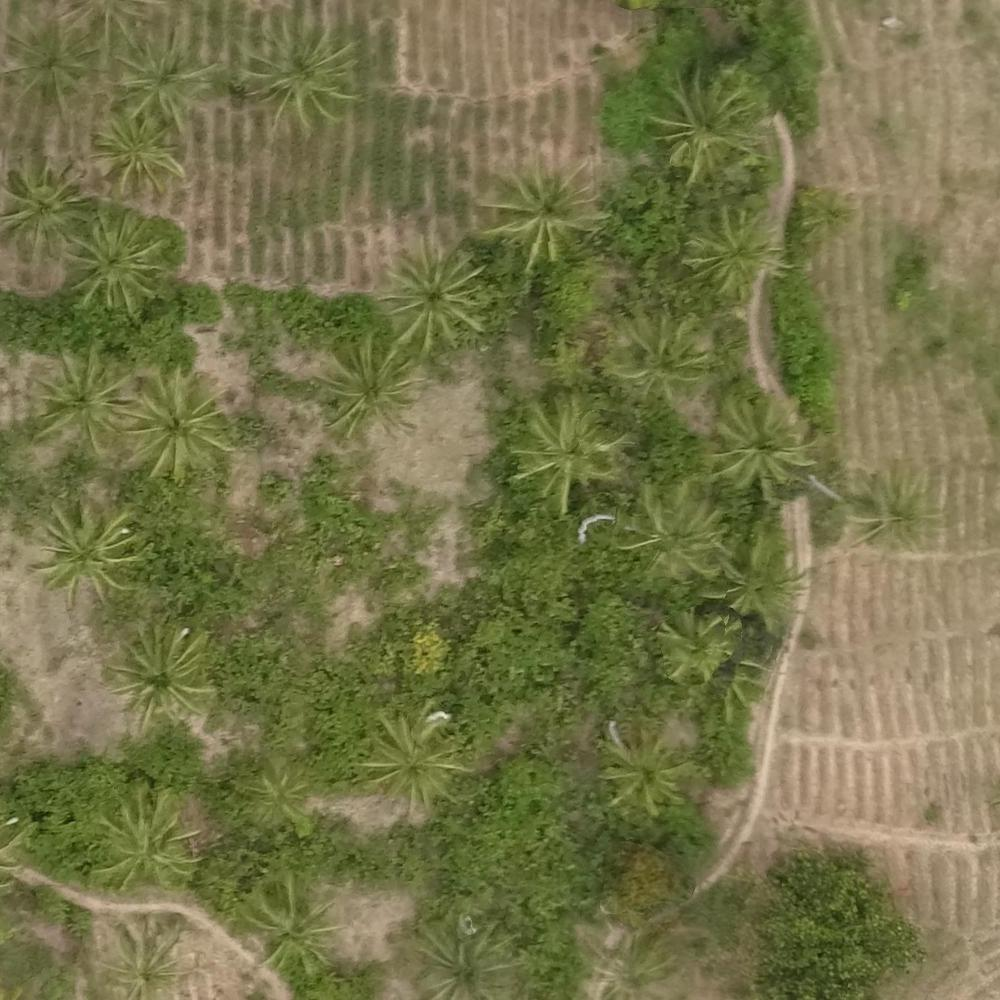Palm: (517, 394, 631, 505), (652, 66, 769, 174), (482, 157, 598, 265), (238, 23, 351, 128), (379, 242, 488, 349), (710, 393, 821, 492), (23, 349, 131, 449), (317, 335, 419, 432), (37, 500, 137, 598), (604, 312, 713, 399), (124, 373, 223, 468), (112, 631, 214, 723), (94, 793, 194, 886), (110, 35, 211, 127), (65, 215, 164, 308), (5, 156, 101, 251), (630, 489, 733, 575), (596, 726, 693, 814), (687, 211, 786, 297), (410, 917, 512, 1000), (365, 716, 462, 802), (240, 881, 331, 967), (91, 106, 181, 190), (848, 467, 940, 547), (721, 540, 805, 623), (96, 928, 191, 999), (656, 609, 727, 679), (235, 765, 307, 828)
